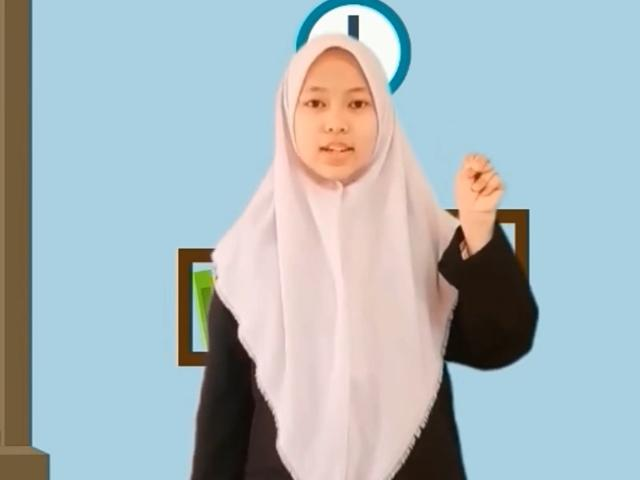N: (454, 151, 504, 220)
